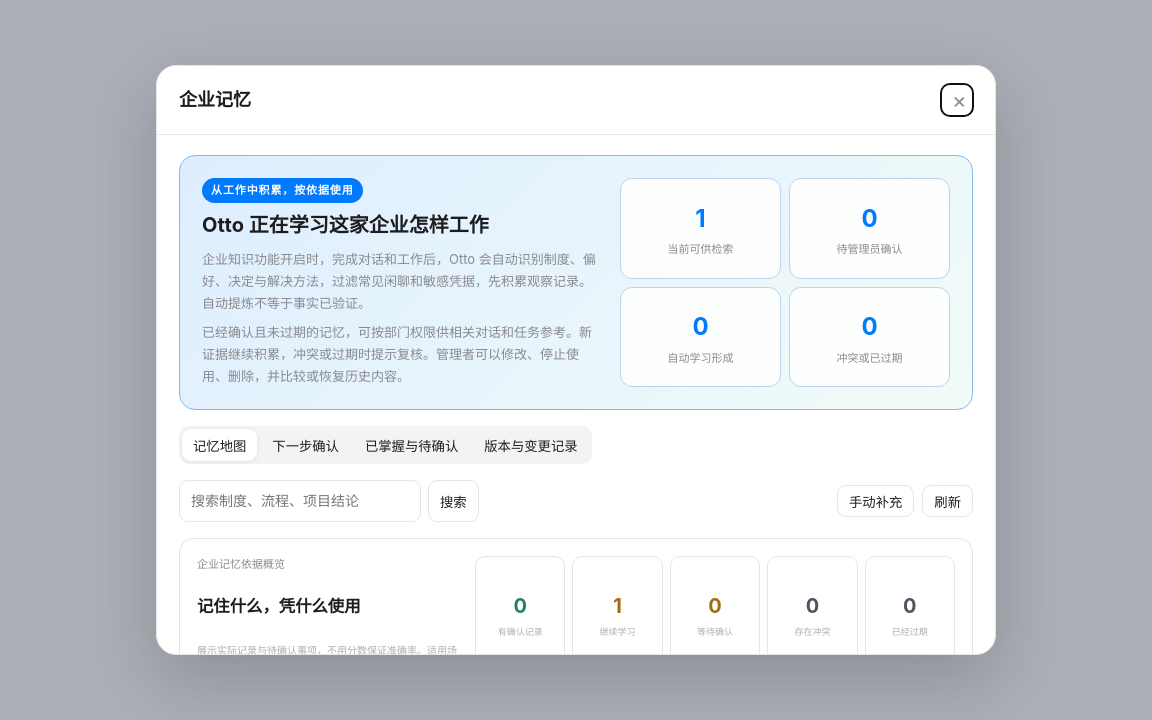
WorkspaceDialogs › 企业知识保留部门、证据、来源和完整记忆沿革
What coordinates should you click on to do the following:
click the tab "已掌握与待确认"
I would click on:
 (412, 445)
Its box is top-left (354, 429), bottom-right (469, 461).
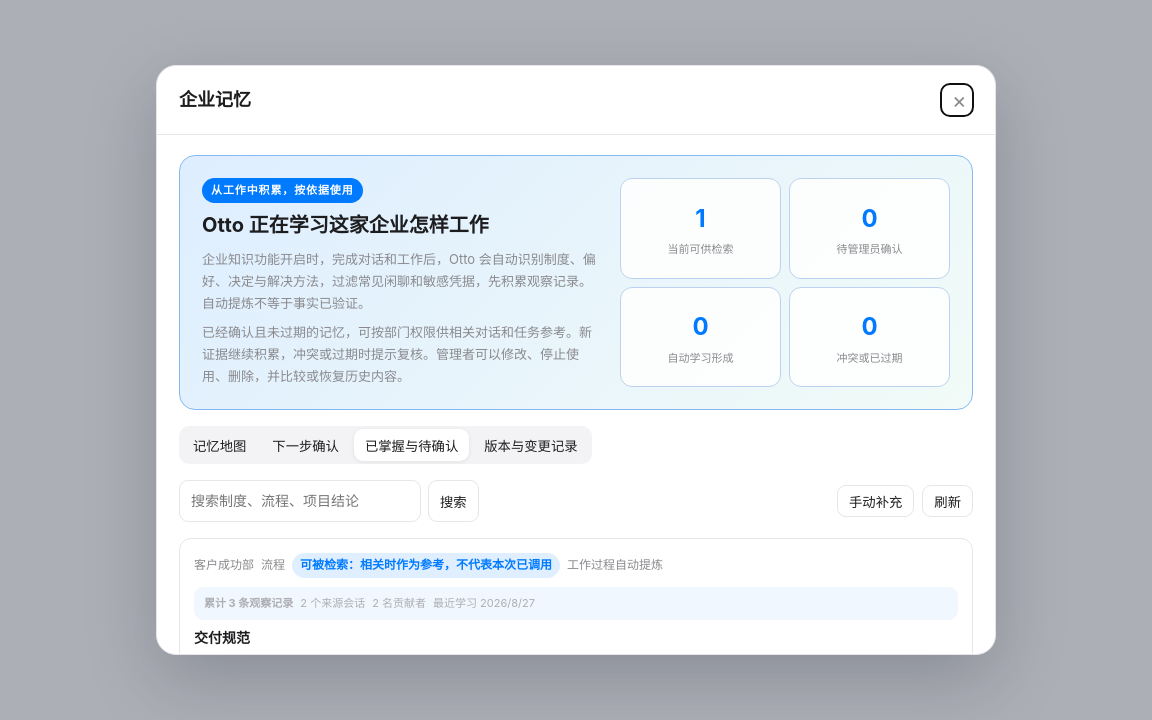
expect the text "客户成功部" is shown: met, box top-left (194, 556), bottom-right (254, 575)
expect the text "累计 3 条观察记录" is shown: met, box top-left (204, 595), bottom-right (293, 612)
What coordinates should you click on to do the following:
click the tab "版本与变更记录"
I would click on:
 (531, 445)
Its box is top-left (473, 429), bottom-right (589, 461).
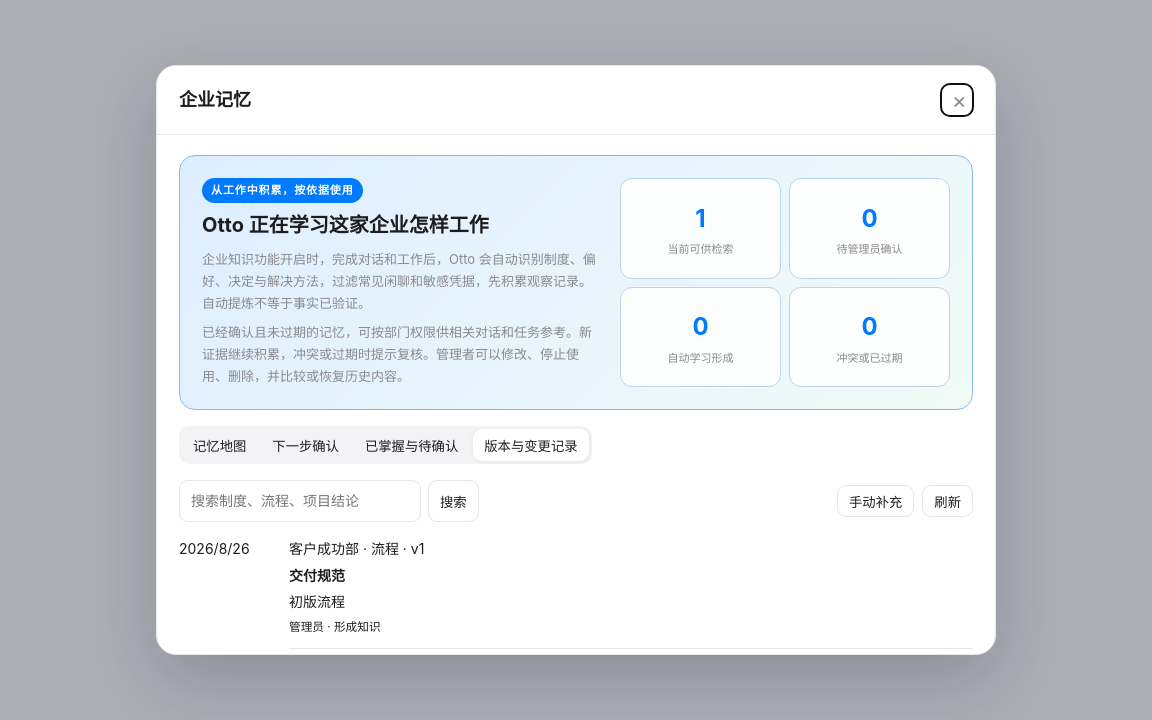
expect the text "初版流程" is shown: met, box top-left (289, 594), bottom-right (345, 610)
expect the text "管理员 · 形成知识" is shown: met, box top-left (289, 620), bottom-right (380, 634)
